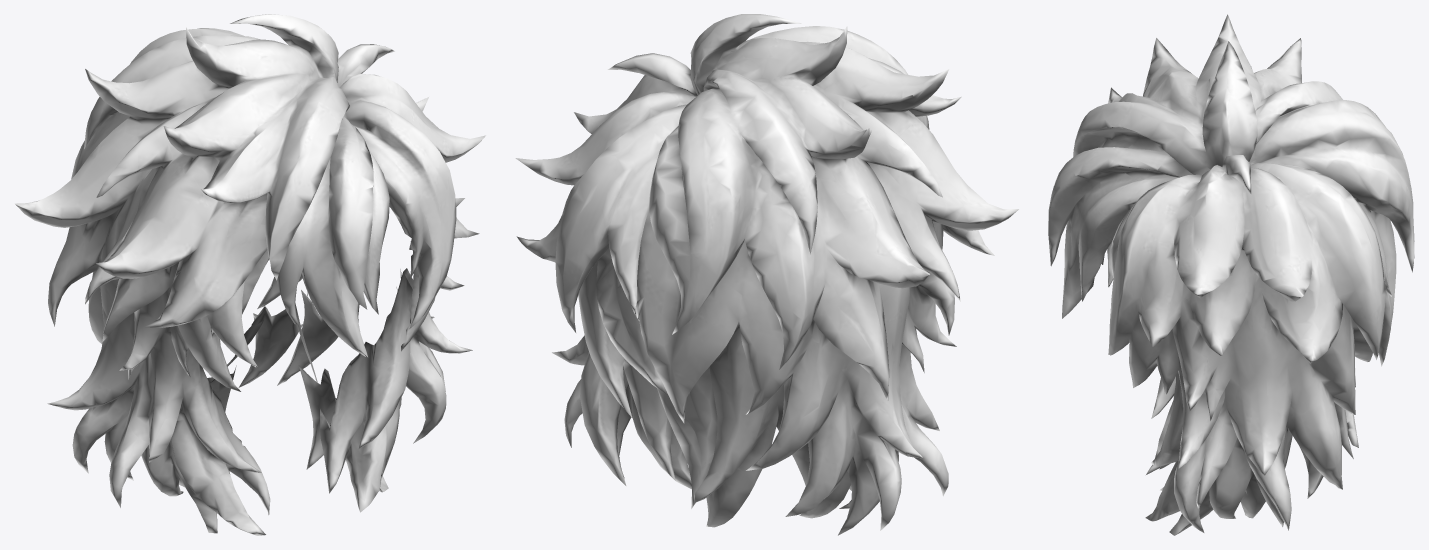
File: hair-long.glb
3 views of the same model, side by side, from view 1: azimuth 30°, elevation 25°; view 2: azimuth 150°, elevation 25°; view 3: azimuth 270°, elevation 25° (orthographic). The views are drawn at different scales.
Parts seen in each view (by area): view 1: tripo_node_bf670b22-c255-421a-a5ac-0b5223ab02e3; view 2: tripo_node_bf670b22-c255-421a-a5ac-0b5223ab02e3; view 3: tripo_node_bf670b22-c255-421a-a5ac-0b5223ab02e3.
Boxes of the visible parts, x1,y1,x2,y2 form: tripo_node_bf670b22-c255-421a-a5ac-0b5223ab02e3: (15, 14, 485, 535); tripo_node_bf670b22-c255-421a-a5ac-0b5223ab02e3: (515, 14, 1018, 535); tripo_node_bf670b22-c255-421a-a5ac-0b5223ab02e3: (1048, 14, 1414, 535).
Bounding box in the file's own units: 0.8938 × 1 × 0.7443.
1 material, 1 textured.
